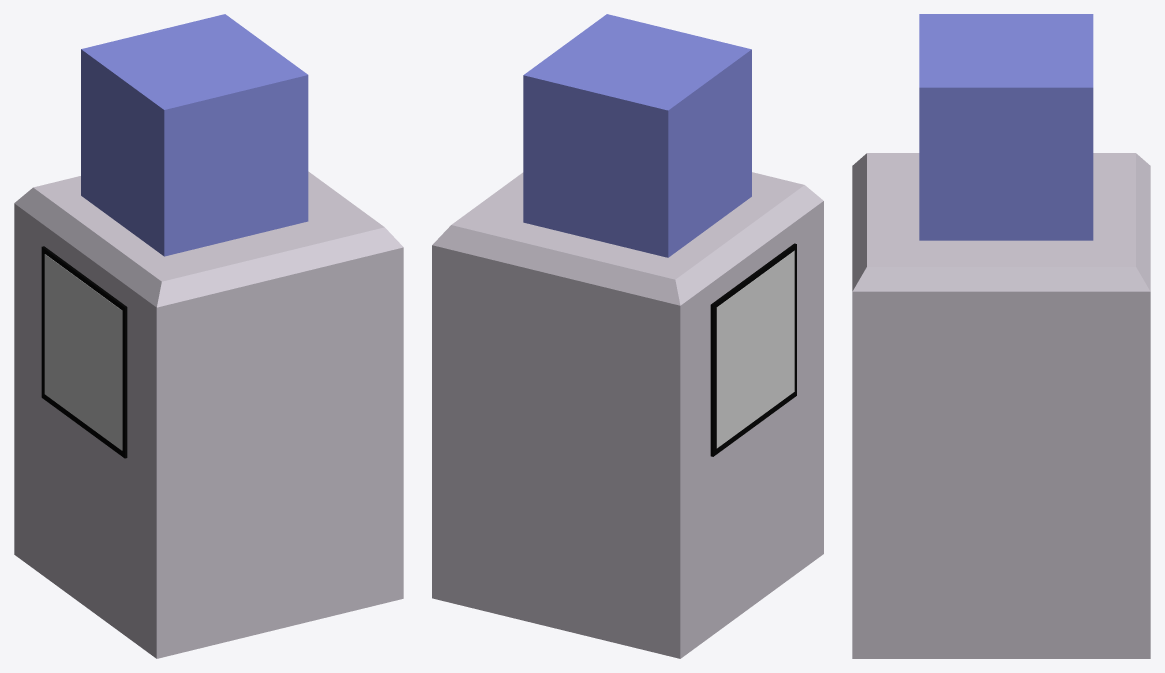
File: item.glb
The picture shows the model from 3 angles, left to right: view 1: azimuth 30°, elevation 25°; view 2: azimuth 150°, elevation 25°; view 3: azimuth 270°, elevation 25°; orthographic projection. The views are drawn at different scales.
Parts seen in each view (by area): view 1: Cube.007, Cube.008, Cube.010, Cube.009; view 2: Cube.007, Cube.008, Cube.010, Cube.009; view 3: Cube.007, Cube.008.
Part boxes in pixels (<box>): Cube.007: <box>14,171,403,658</box>; Cube.008: <box>81,14,308,256</box>; Cube.010: <box>44,254,122,450</box>; Cube.009: <box>41,246,127,458</box>; Cube.007: <box>432,172,823,658</box>; Cube.008: <box>523,14,751,257</box>; Cube.010: <box>716,250,794,448</box>; Cube.009: <box>710,243,796,456</box>; Cube.007: <box>852,153,1150,658</box>; Cube.008: <box>919,14,1093,240</box>.
Size of the model in its own units: 0.7735 by 1.53 by 0.7645.
